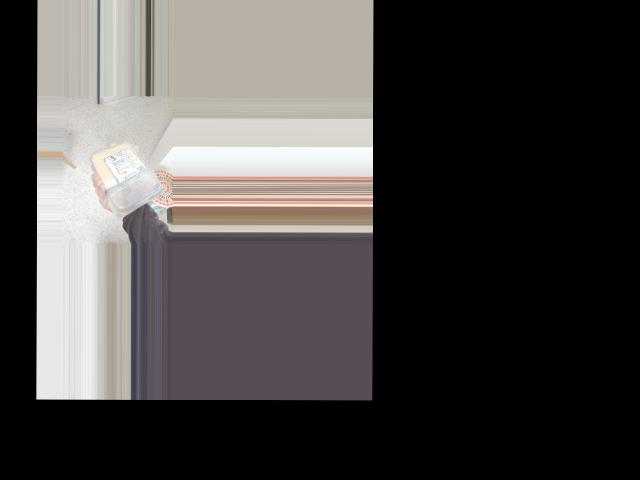cheese: (100, 139, 161, 208)
